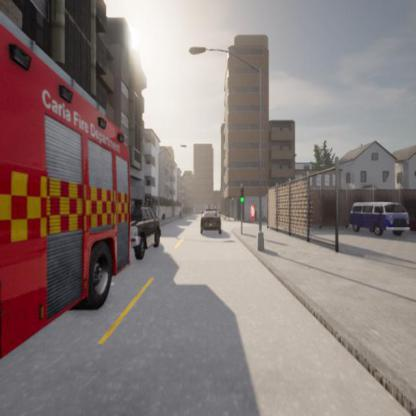traffic_light_green: (240, 187, 244, 203)
vehicle: (2, 4, 134, 356), (347, 201, 412, 237), (132, 206, 161, 248), (200, 208, 224, 235)
